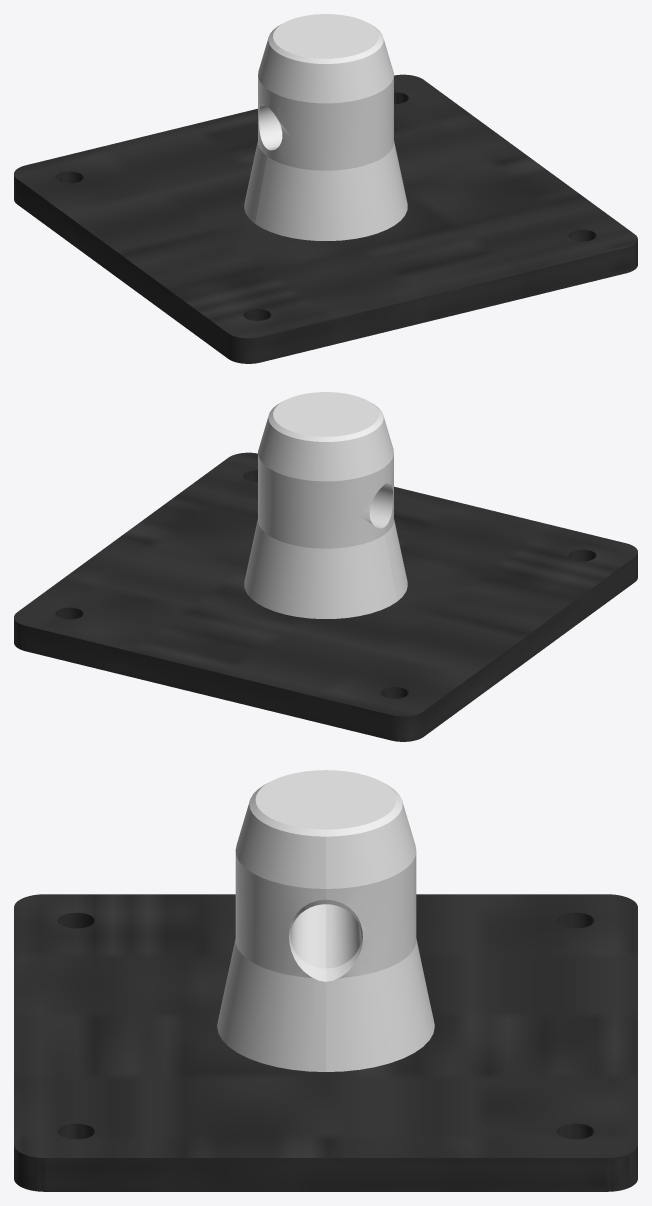
File: Alutruss_Singlelock_SBPM_B-d6b7fd92.glb
3 renders of one model, top to bottom at view 1: azimuth 30°, elevation 25°; view 2: azimuth 150°, elevation 25°; view 3: azimuth 270°, elevation 25°, orthographic. The views are drawn at different scales.
Parts seen in each view (by area): view 1: Geom3D (×2); view 2: Geom3D (×2); view 3: Geom3D (×2).
Part boxes in pixels (x1=…): Geom3D (×2): x1=14, y1=14, x2=637, y2=363; Geom3D (×2): x1=14, y1=392, x2=637, y2=741; Geom3D (×2): x1=14, y1=770, x2=637, y2=1191.
Bounding box in the file's own units: 0.1 × 0.046 × 0.1.
2 materials, 1 textured.
